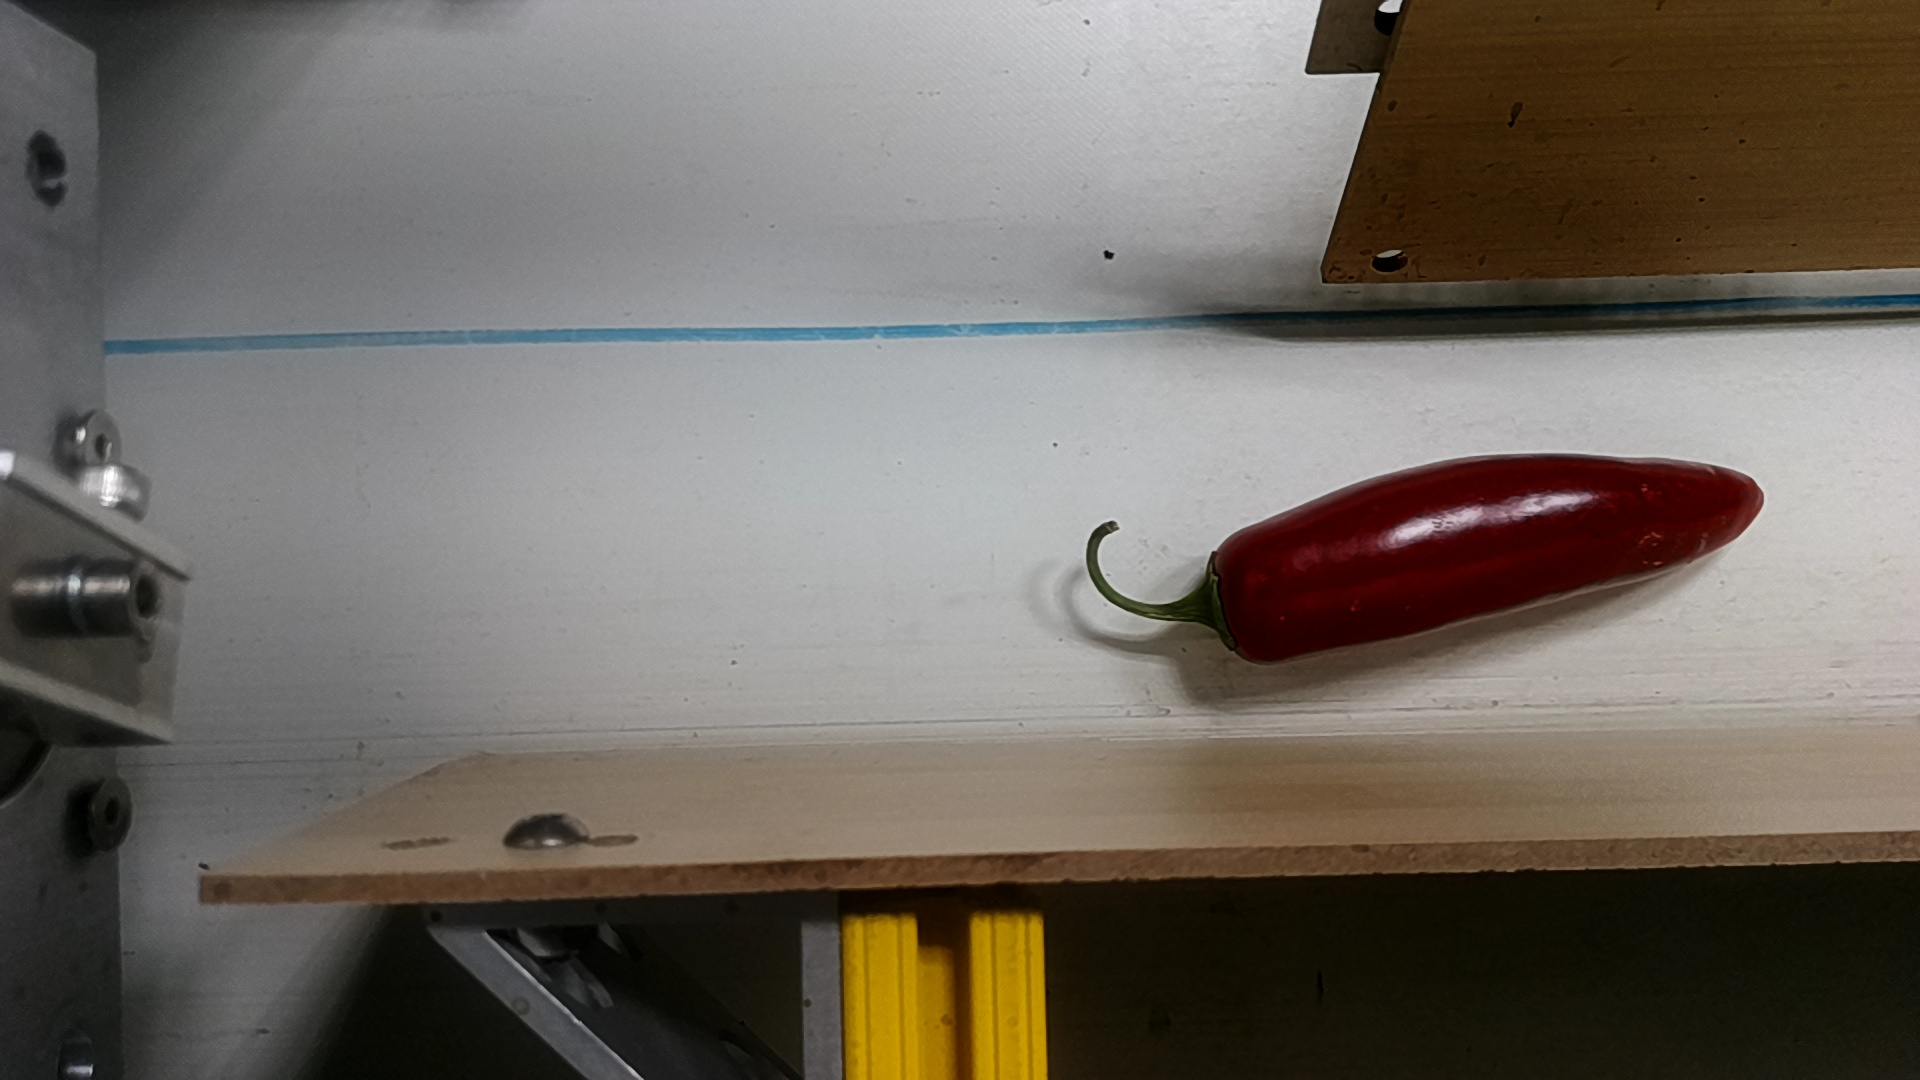Cut Point: (1182, 525, 1280, 669)
